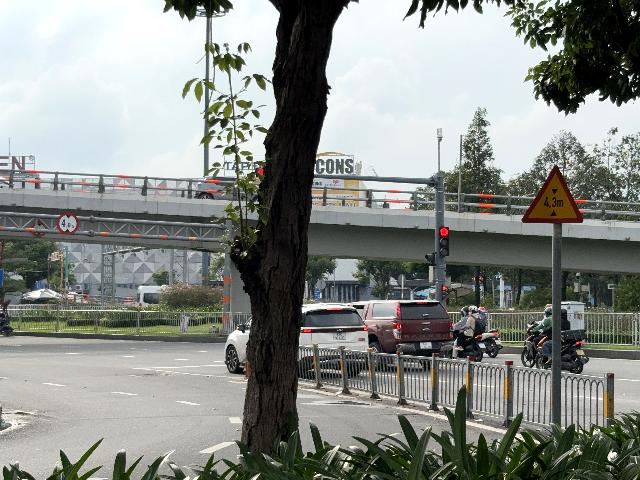chieu-cao-tinh-khong-thuc-te: (521, 165, 583, 223)
